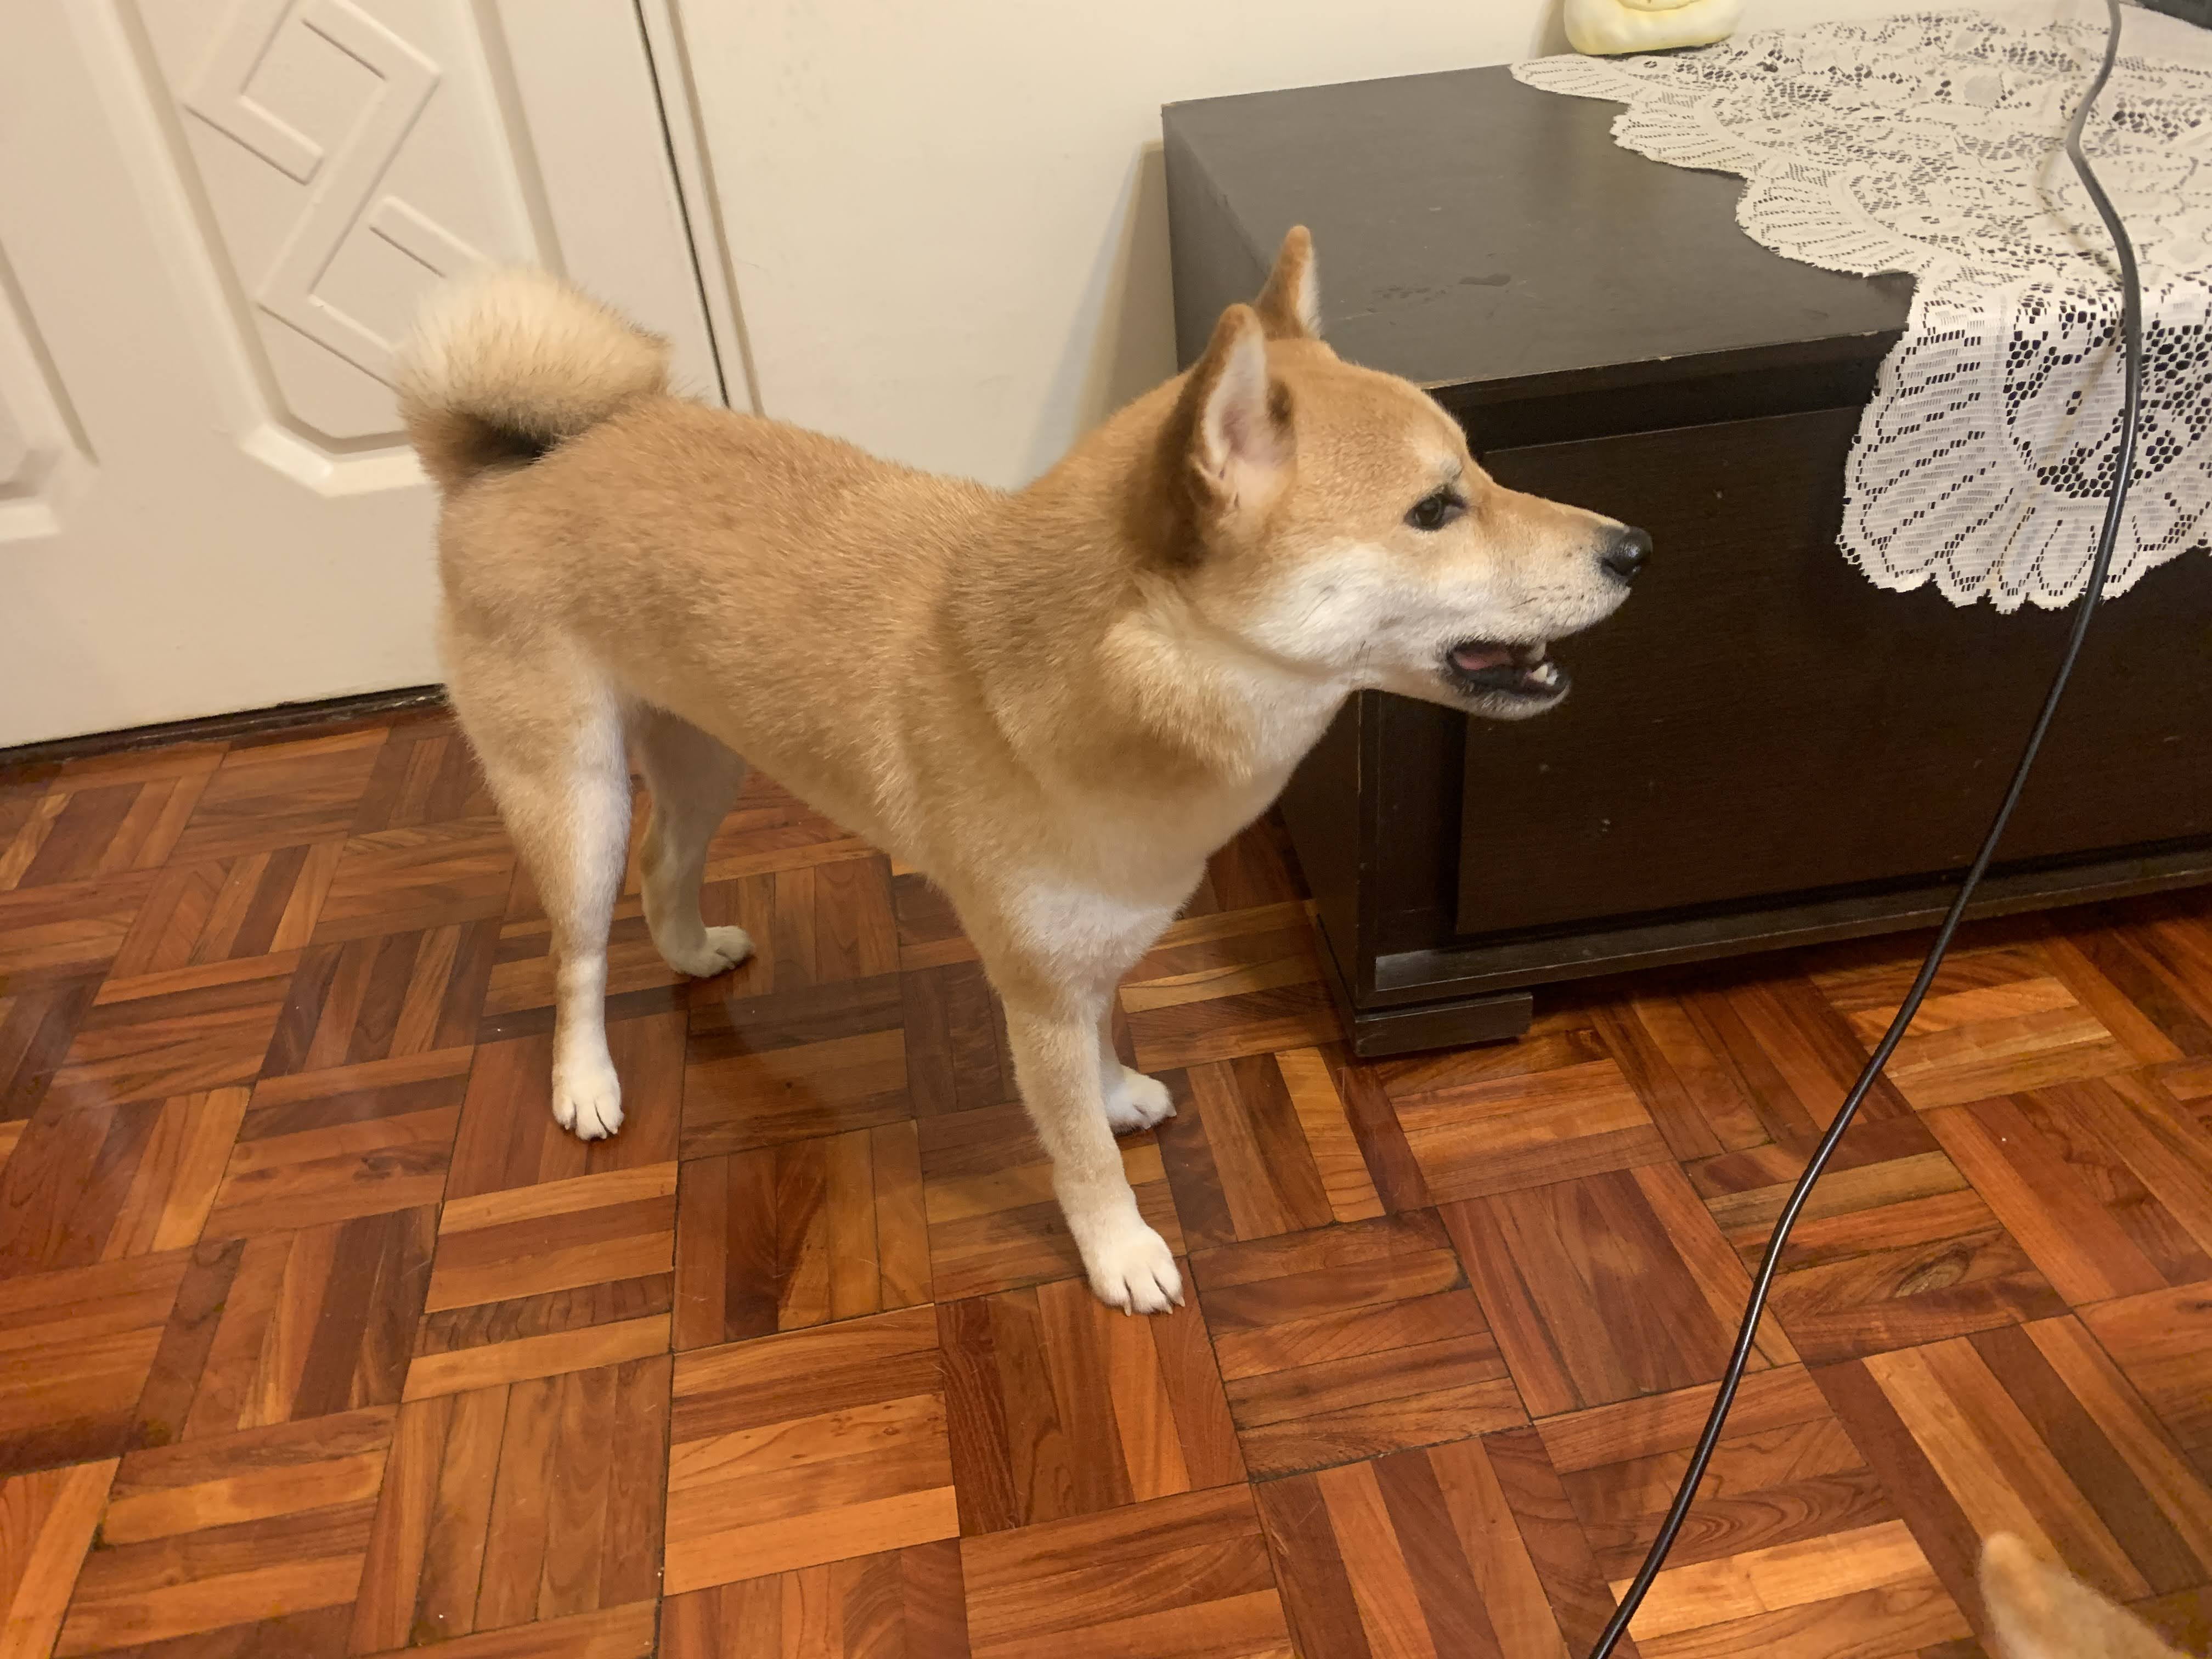Stand up: (402, 223, 1527, 1317)
